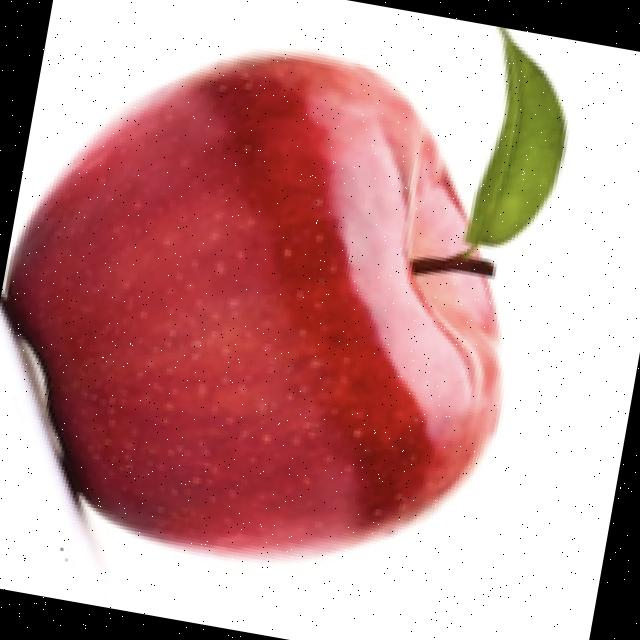apple: (0, 29, 572, 570)
